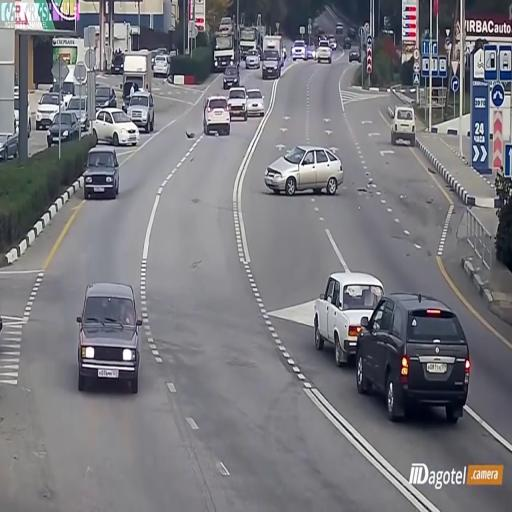小汽车: (362, 295, 471, 427), (80, 277, 141, 387), (313, 262, 371, 360), (263, 145, 345, 198), (82, 139, 120, 204), (92, 104, 142, 150), (43, 103, 80, 146), (200, 92, 232, 138), (128, 88, 156, 131), (212, 28, 238, 73), (389, 101, 415, 145), (246, 81, 268, 123), (228, 82, 249, 124), (261, 47, 283, 81), (314, 38, 334, 68), (289, 36, 307, 63), (244, 43, 258, 72)
